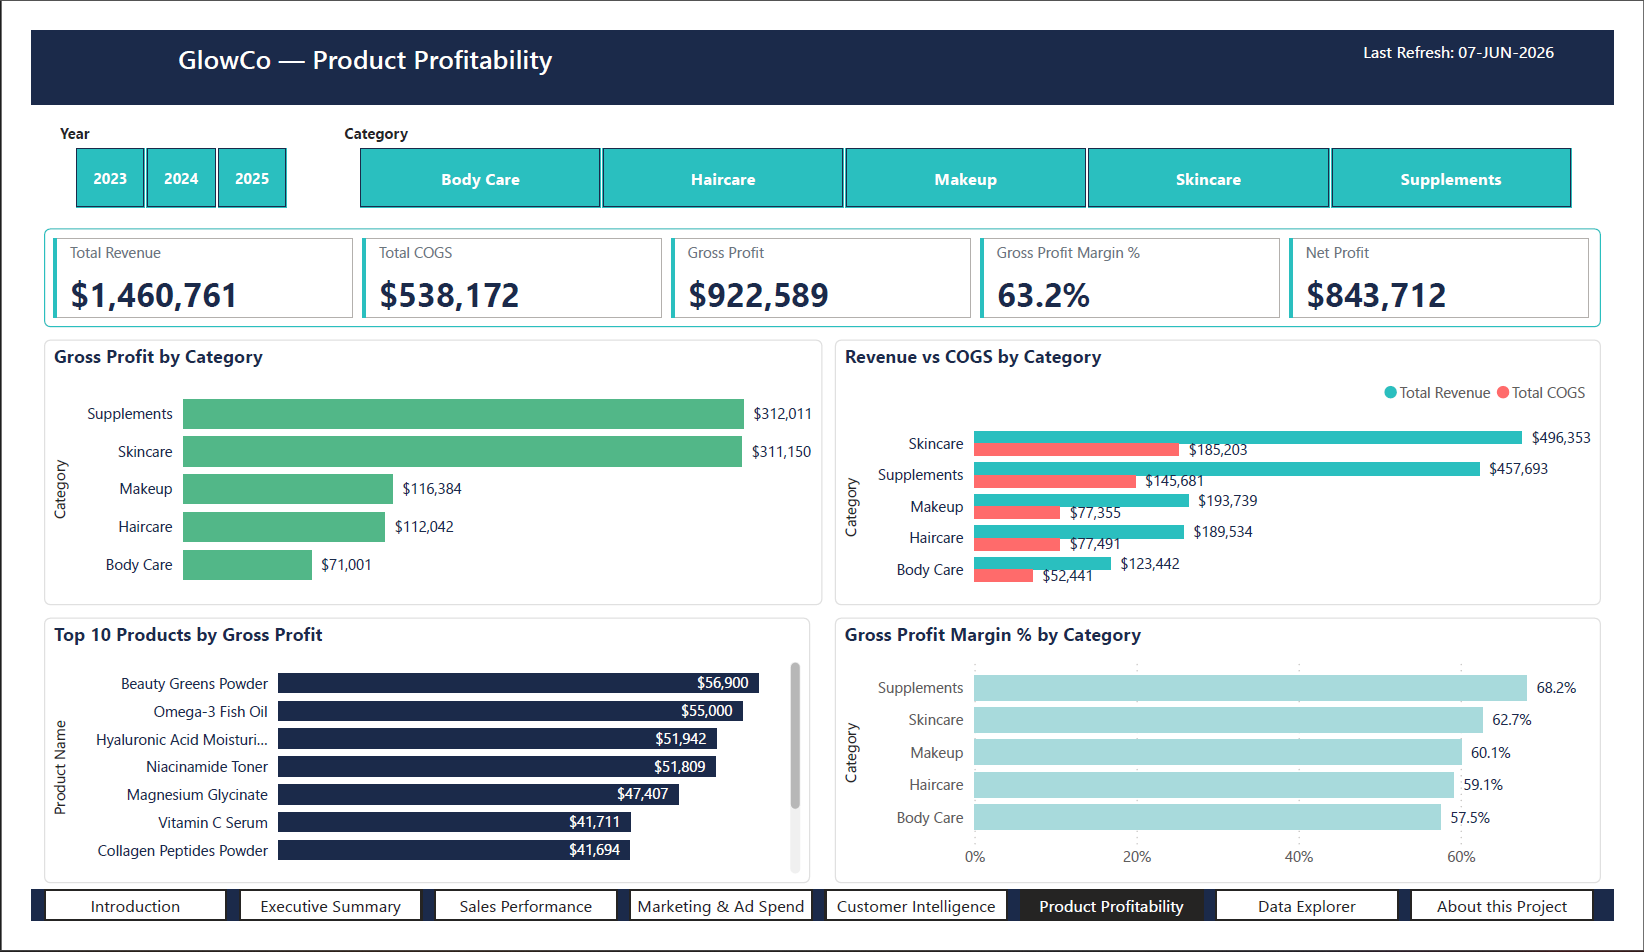

The dashboard page shown, as its layout file describes it:
{"tool":"powerbi","page":{"name":"Product Profitability","canvas":[1280,720],"ordinal":5},"visuals":[{"type":"shape","box":[0,0,1280,60],"z":0},{"type":"textbox","box":[20,3.3,500,40],"z":1000},{"type":"textbox","box":[1050,3.3,210,40],"z":2000},{"type":"slicer","fields":{"Values":["dim_Date.Year"]},"box":[10,70,220,80],"z":3000},{"type":"slicer","fields":{"Values":["dim_Products.Category"]},"box":[240,70,1030,80],"z":4000},{"type":"cardVisual","fields":{"Data":["_Measures.Total Revenue","_Measures.Total COGS","_Measures.Gross Profit","_Measures.Gross Profit Margin %","_Measures.Net Profit"]},"box":[10.3,160,1260,80],"z":5000},{"type":"clusteredBarChart","title":"Gross Profit by Category","fields":{"Category":["dim_Products.Category"],"Y":["_Measures.Gross Profit"]},"box":[10.3,250,630,215],"z":6000},{"type":"clusteredBarChart","title":"Revenue vs COGS by Category","fields":{"Category":["dim_Products.Category"],"Y":["_Measures.Total Revenue","_Measures.Total COGS"]},"box":[650,250,620,215],"z":7000},{"type":"clusteredBarChart","title":"Top 10 Products by Gross Profit","fields":{"Category":["dim_Products.ProductName"],"Y":["_Measures.Gross Profit"]},"box":[10,475,620,215],"z":8000},{"type":"clusteredBarChart","title":"Gross Profit Margin % by Category","fields":{"Y":["_Measures.Gross Profit Margin %"],"Category":["dim_Products.Category"]},"box":[650,475,620,215],"z":9000},{"type":"shape","box":[0,695,1280,25],"z":10000},{"type":"pageNavigator","box":[10,695,1260,25],"z":11000}]}

Visuals, with their boxes in screenshot pixels (x1, y1, x2, y2), scaled from the page's 1280x720 canvas onto the 1644x952 screenshot:
shape: pyautogui.locateOnScreen(0, 0, 1643, 79)
textbox: pyautogui.locateOnScreen(26, 4, 668, 57)
textbox: pyautogui.locateOnScreen(1349, 4, 1618, 57)
slicer - dim_Date.Year: pyautogui.locateOnScreen(13, 93, 295, 198)
slicer - dim_Products.Category: pyautogui.locateOnScreen(308, 93, 1631, 198)
cardVisual - _Measures.Total Revenue x _Measures.Total COGS: pyautogui.locateOnScreen(13, 212, 1632, 317)
"Gross Profit by Category" clusteredBarChart: pyautogui.locateOnScreen(13, 331, 822, 615)
"Revenue vs COGS by Category" clusteredBarChart: pyautogui.locateOnScreen(835, 331, 1631, 615)
"Top 10 Products by Gross Profit" clusteredBarChart: pyautogui.locateOnScreen(13, 628, 809, 912)
"Gross Profit Margin % by Category" clusteredBarChart: pyautogui.locateOnScreen(835, 628, 1631, 912)
shape: pyautogui.locateOnScreen(0, 919, 1643, 951)
pageNavigator: pyautogui.locateOnScreen(13, 919, 1631, 951)
